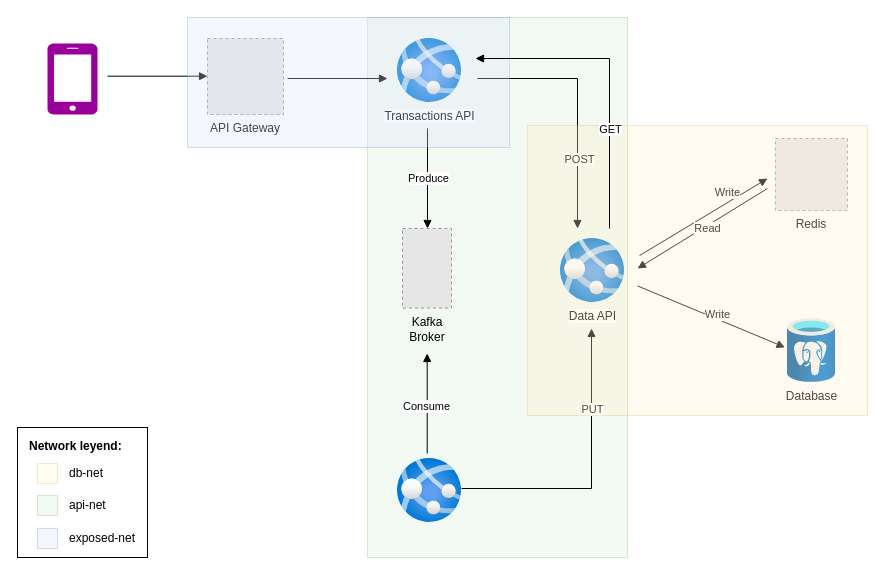
Image size: 885x575. Some labels were removed from this diagram. Grey dashed boxes stand in for pictures. Here are the shapes that lost their labels. From the top down, the centre of each, then its label:
the point at 72,78: Client
the point at 429,490: Anti-Fraud API
